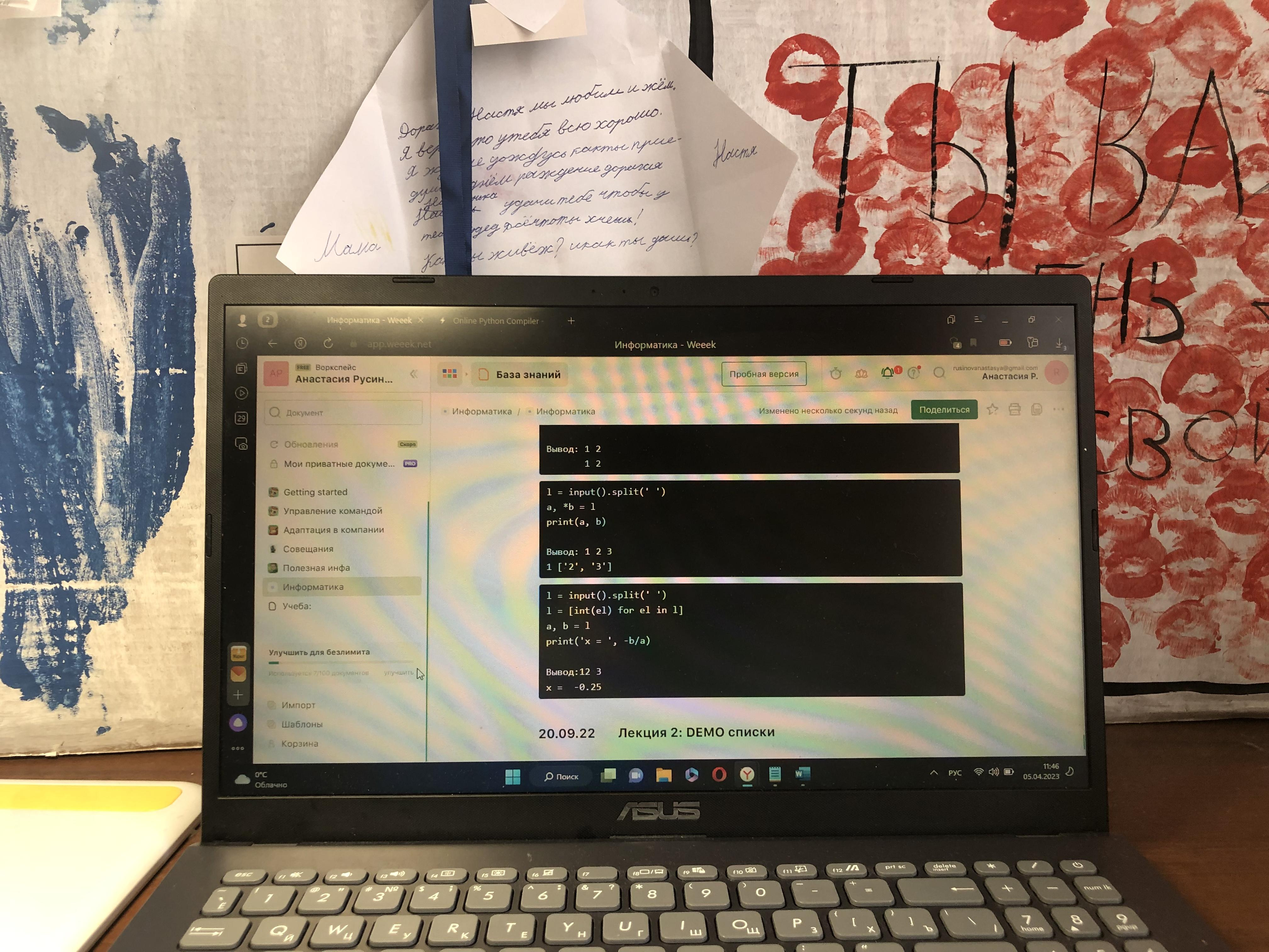monitor: (205, 268, 1102, 842)
